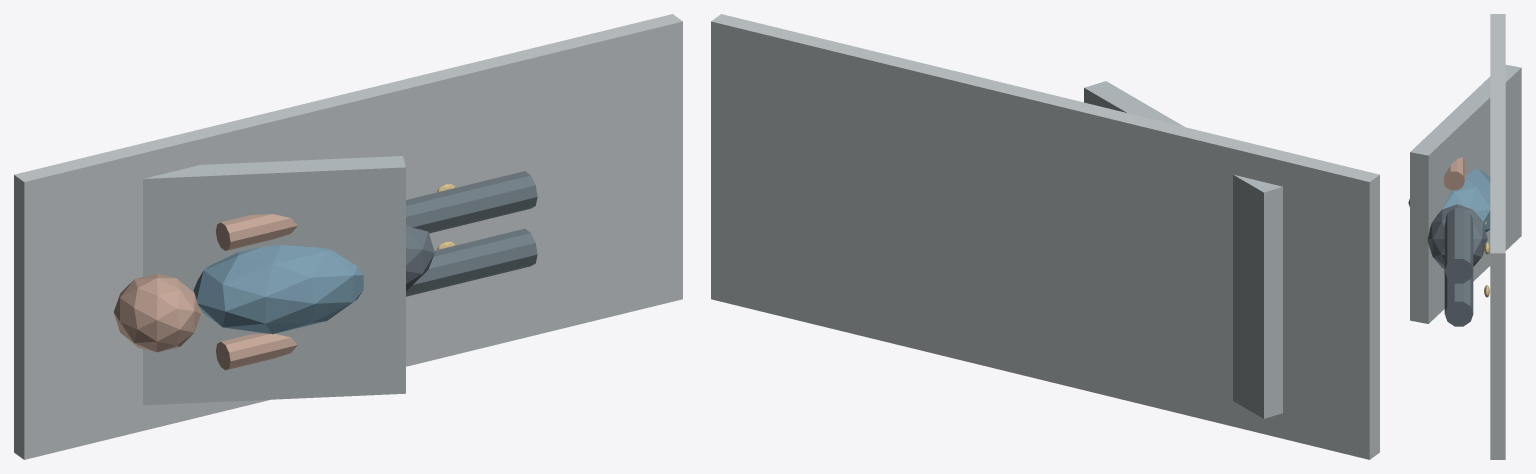
Rendered from semi-seated-low.glb.
The picture shows the model from 3 angles, left to right: view 1: azimuth 30°, elevation 25°; view 2: azimuth 150°, elevation 25°; view 3: azimuth 270°, elevation 25°; orthographic projection. The views are drawn at different scales.
Parts seen in each view (by area): view 1: reference_surface, inclined_support_proxy, torso, head, right_leg, left_leg, right_arm, left_arm, pelvis; view 2: reference_surface, inclined_support_proxy; view 3: inclined_support_proxy, reference_surface, right_leg, torso, pelvis, left_leg, right_arm.
Part boxes in pixels (left/top/right/bottom): reference_surface: left=14, top=14, right=682, bottom=459; inclined_support_proxy: left=143, top=156, right=405, bottom=405; torso: left=193, top=245, right=363, bottom=334; head: left=113, top=273, right=200, bottom=352; right_leg: left=406, top=171, right=537, bottom=233; left_leg: left=406, top=228, right=537, bottom=296; right_arm: left=215, top=214, right=297, bottom=250; left_arm: left=215, top=333, right=297, bottom=370; pelvis: left=406, top=225, right=434, bottom=290; reference_surface: left=711, top=14, right=1379, bottom=459; inclined_support_proxy: left=1084, top=81, right=1282, bottom=418; inclined_support_proxy: left=1410, top=64, right=1521, bottom=323; reference_surface: left=1490, top=14, right=1505, bottom=459; right_leg: left=1444, top=208, right=1473, bottom=283; torso: left=1408, top=168, right=1490, bottom=232; pelvis: left=1427, top=204, right=1487, bottom=268; left_leg: left=1444, top=272, right=1473, bottom=326; right_arm: left=1444, top=157, right=1464, bottom=190.
Size of the model in its own units: 6.7 by 2.7 by 1.34.
